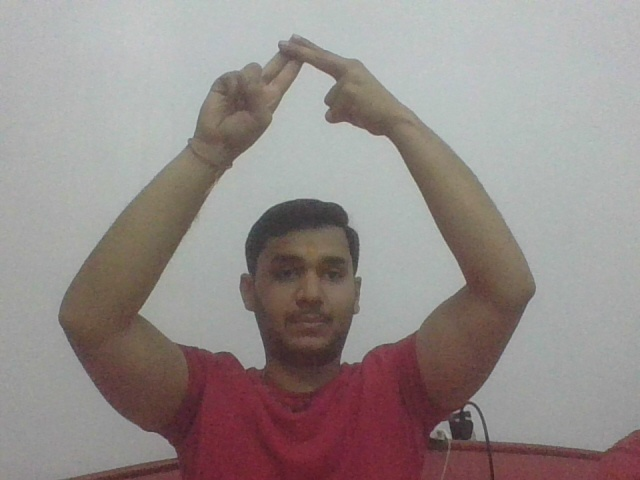F: (199, 32, 410, 145)
